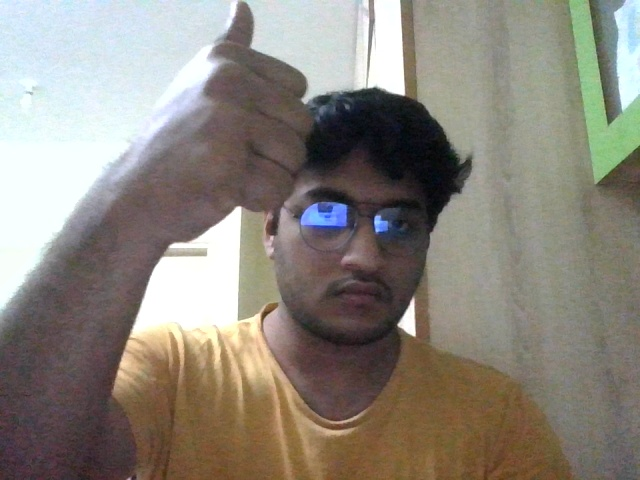thumbsup: (133, 1, 313, 244)
